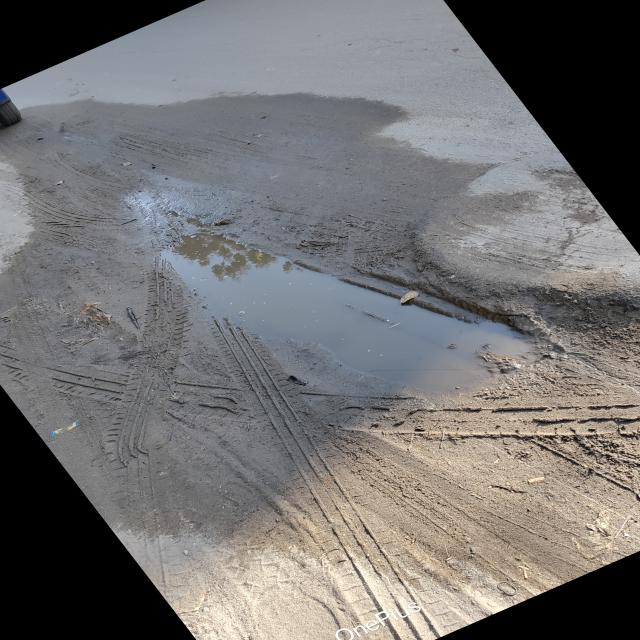Puddle pothole: (123, 191, 598, 423)
